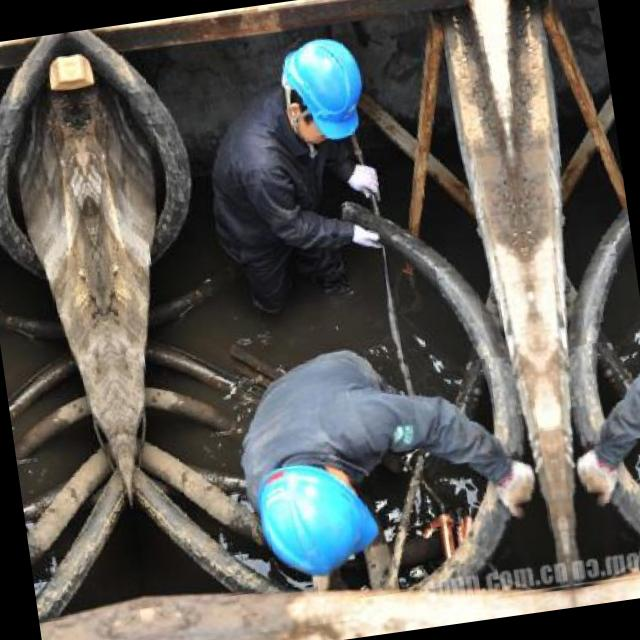helmet: (237, 424, 399, 580), (270, 27, 376, 153)
